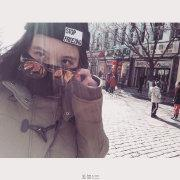OK: (29, 43, 80, 95)
